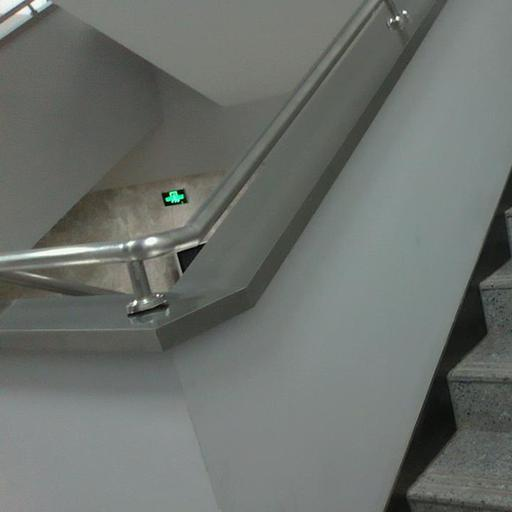stairs: (506, 210, 511, 239)
